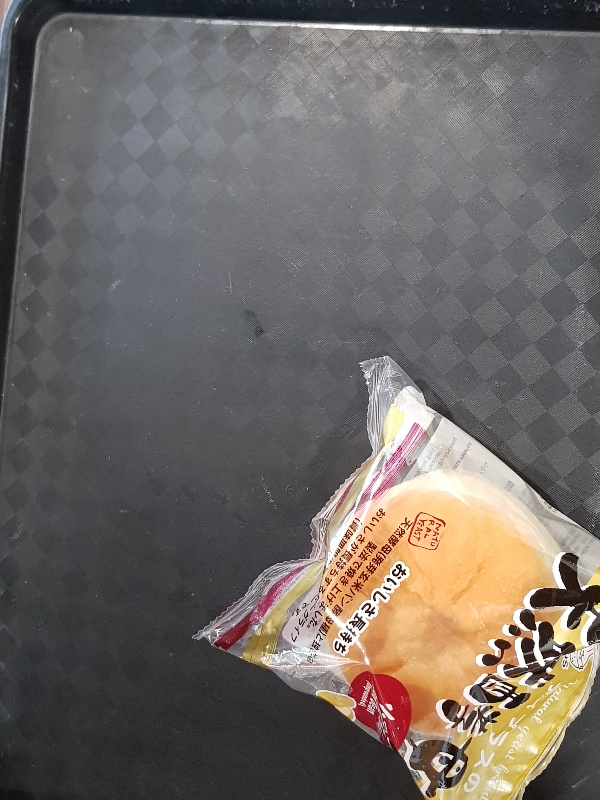Dayplus Red Bean: (186, 353, 600, 798)
